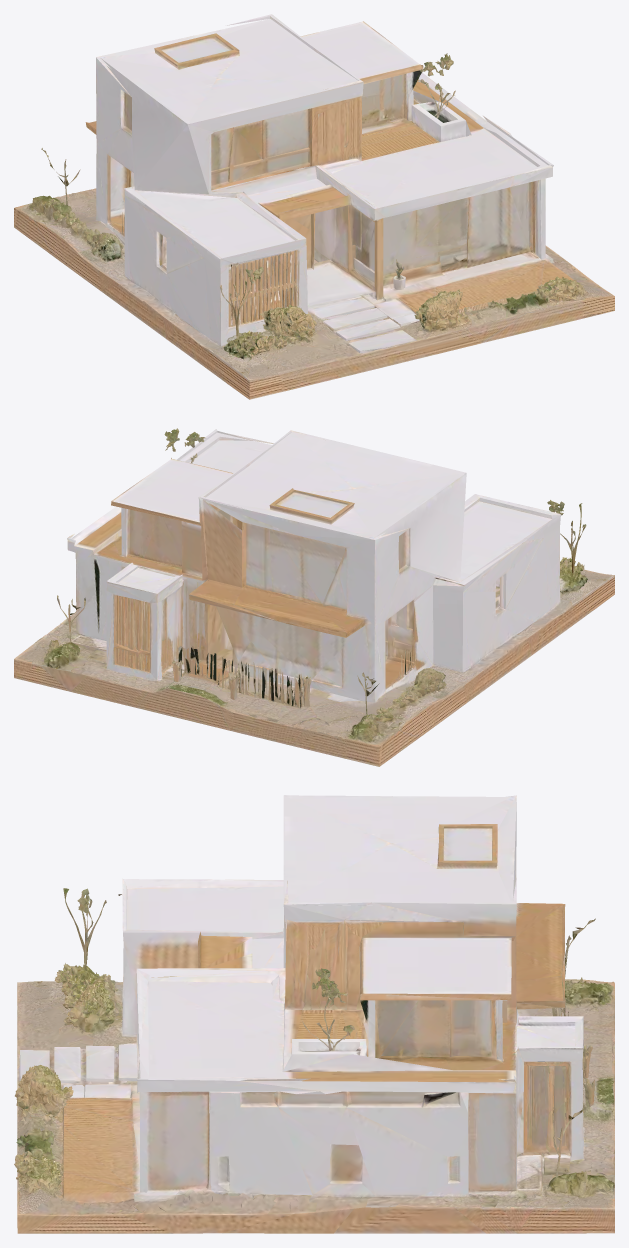
The model's file is house.glb.
3 renders of one model, top to bottom at view 1: azimuth 30°, elevation 25°; view 2: azimuth 150°, elevation 25°; view 3: azimuth 270°, elevation 25°, orthographic. The views are drawn at different scales.
Visible parts, largest first — view 1: Mesh_0; view 2: Mesh_0; view 3: Mesh_0.
Boxes of the visible parts, left/top/right/bottom form: Mesh_0: left=14, top=14, right=614, bottom=399; Mesh_0: left=14, top=428, right=614, bottom=766; Mesh_0: left=14, top=795, right=614, bottom=1233.
Bounding box in the file's own units: 1.68 × 0.8374 × 1.89.
Materials: 1 (1 with a texture image).
